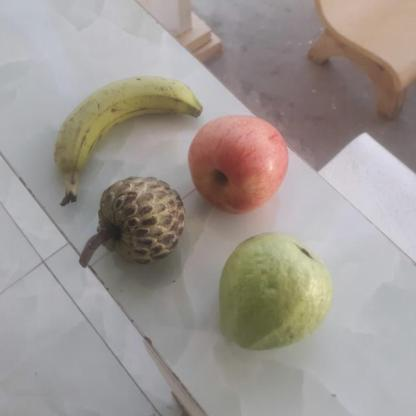annona: (89, 174, 190, 265)
apple: (186, 115, 292, 213)
banana: (56, 77, 206, 193)
guava: (219, 235, 339, 353)
